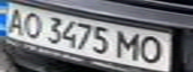3: (42, 15, 66, 44)
4: (57, 18, 78, 48)
5: (90, 25, 115, 56)
7: (72, 20, 93, 52)
A: (0, 6, 30, 35)
M: (115, 29, 145, 61)
O: (136, 34, 169, 65), (18, 10, 45, 38)
